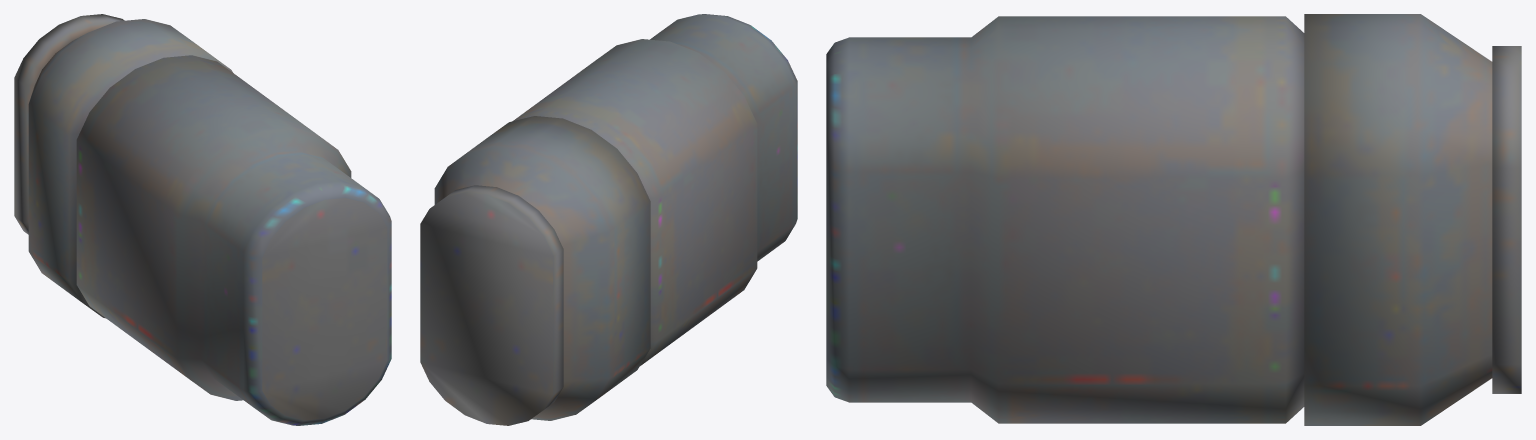
The model's file is barrel2.obj.
3 views of the same model, side by side, from view 1: azimuth 30°, elevation 25°; view 2: azimuth 150°, elevation 25°; view 3: azimuth 270°, elevation 25° (orthographic). The views are drawn at different scales.
Visible parts, largest first — view 1: barrel2; view 2: barrel2; view 3: barrel2.
Boxes of the visible parts, x1=… form: barrel2: x1=14, y1=14, x2=391, y2=425; barrel2: x1=420, y1=14, x2=797, y2=425; barrel2: x1=826, y1=14, x2=1521, y2=425.
Size of the model in its own units: 12.87 by 18.98 by 31.09.
